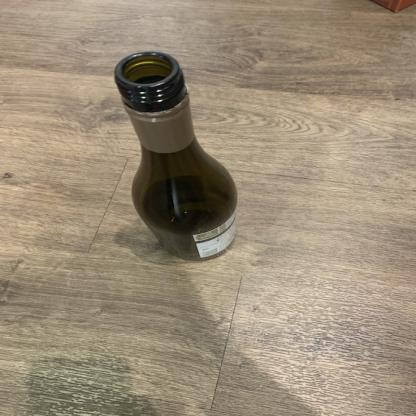trash: (119, 50, 238, 266)
